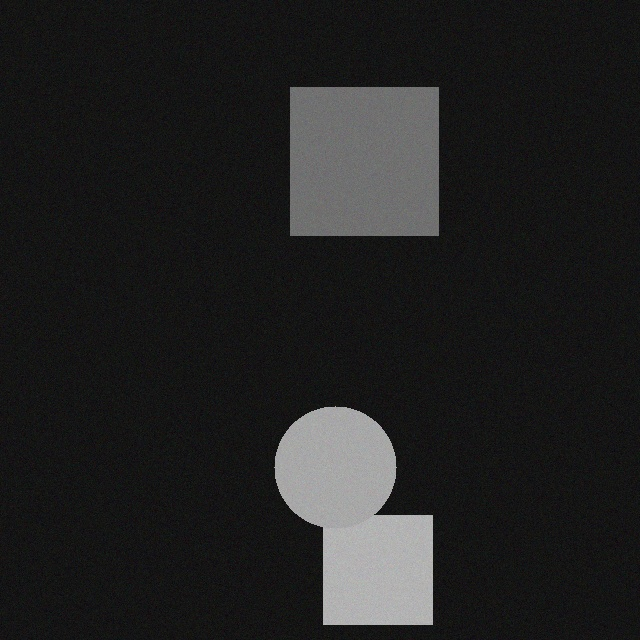circle: (280, 407, 402, 529)
square: (296, 88, 444, 236), (329, 516, 438, 625)
